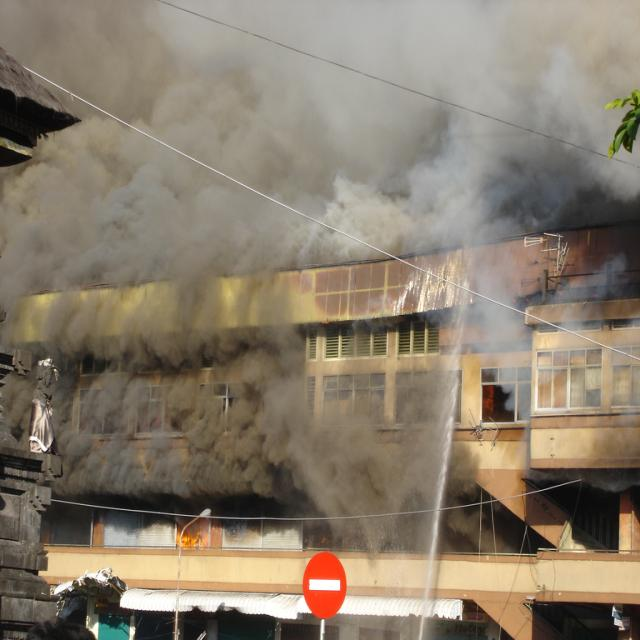fire: (41, 114, 413, 640)
